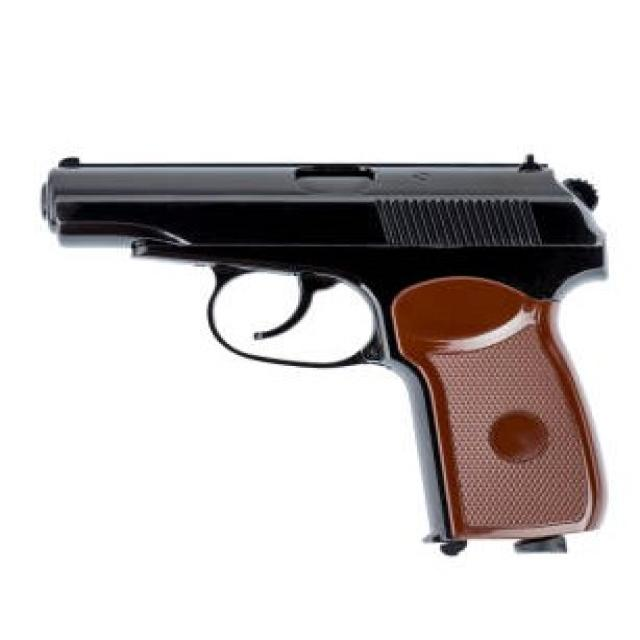pistol: (24, 147, 616, 568)
